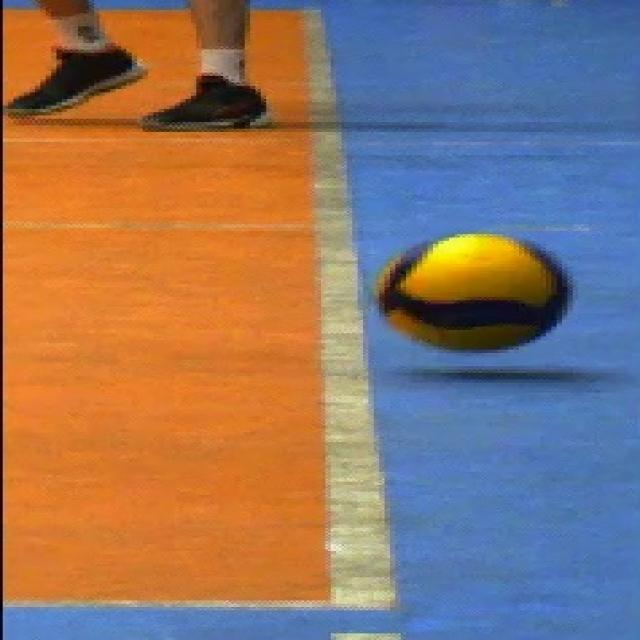Volleyball: (380, 232, 570, 351)
